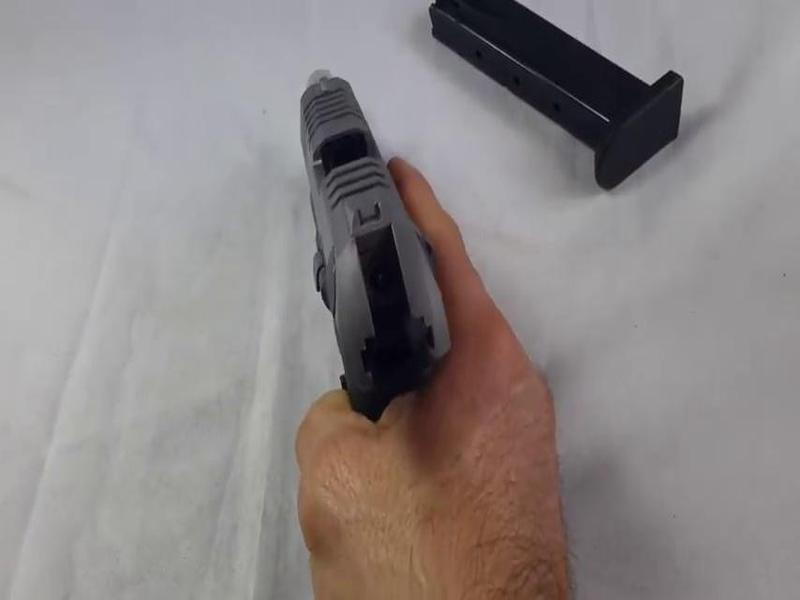Pistola: (274, 56, 490, 416)
